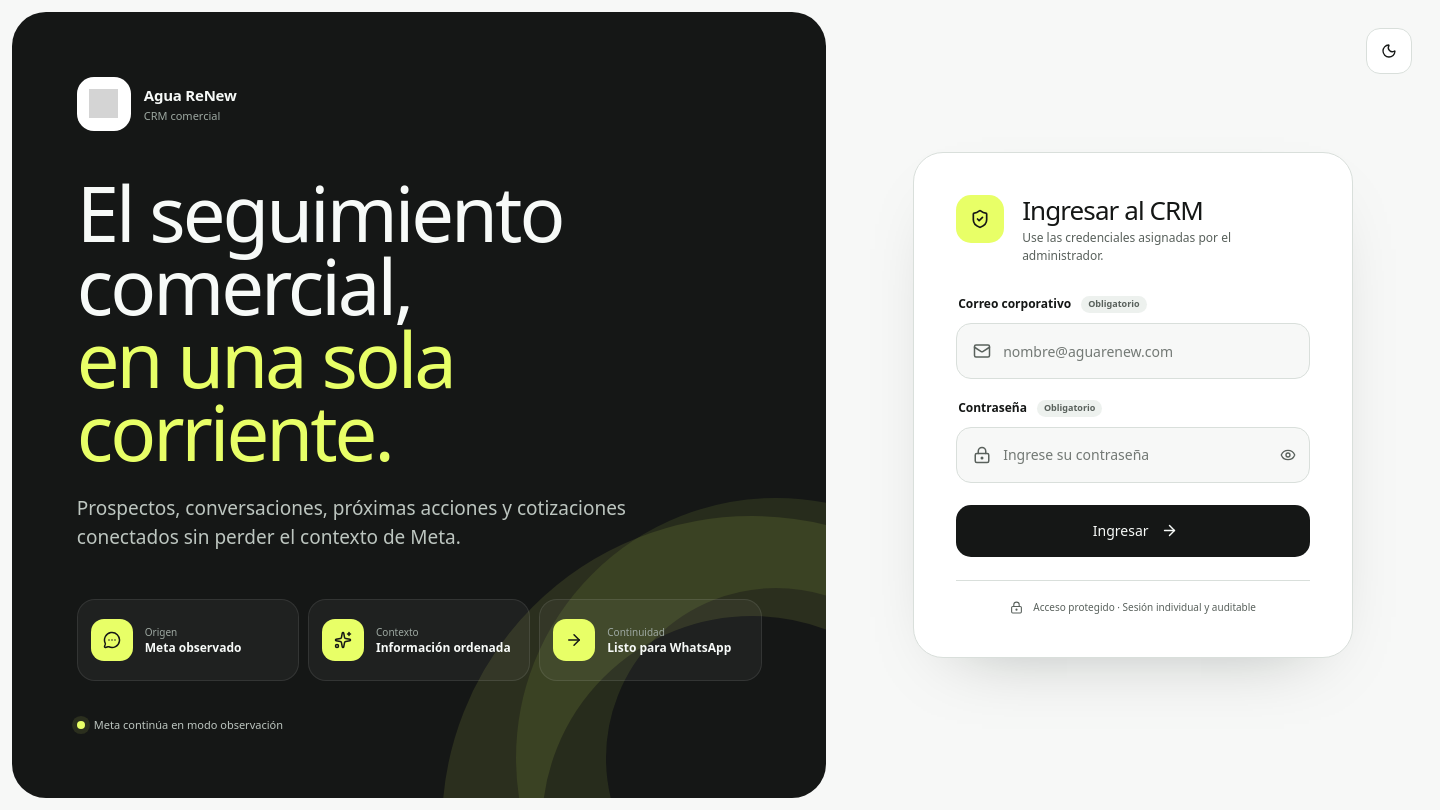
Login › presenta el error del servidor y conserva los datos para reintentar
Step 1. Type "asesor@aguarenew.local" into the field labelled "Correo corporativo Obligatorio" → {"x": 1155, "y": 351}, box [1001,324,1309,378]
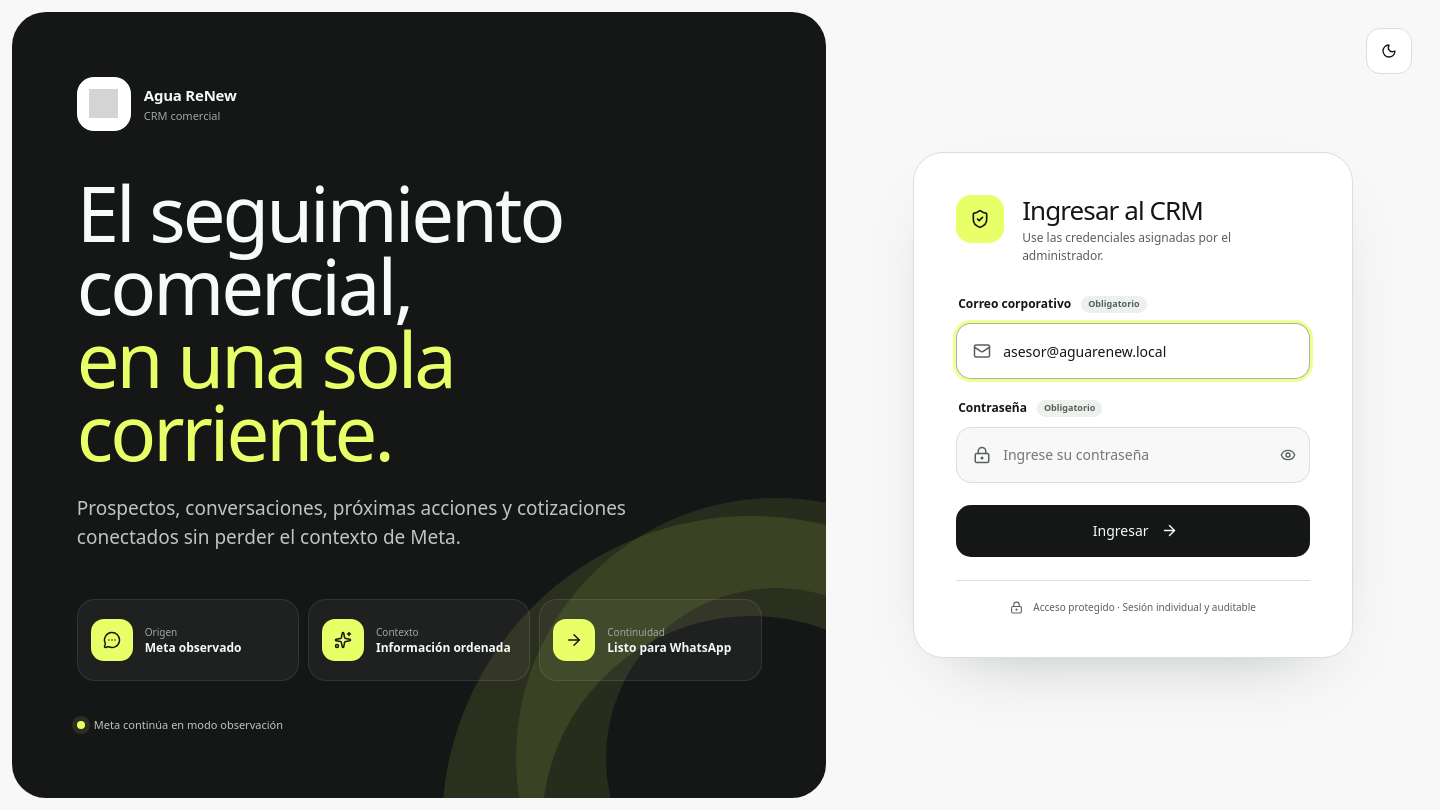
Step 2. Type "Una-clave-segura-2026" into the password field labelled "Contraseña Obligatorio" → {"x": 1132, "y": 455}, box [1001,428,1264,482]
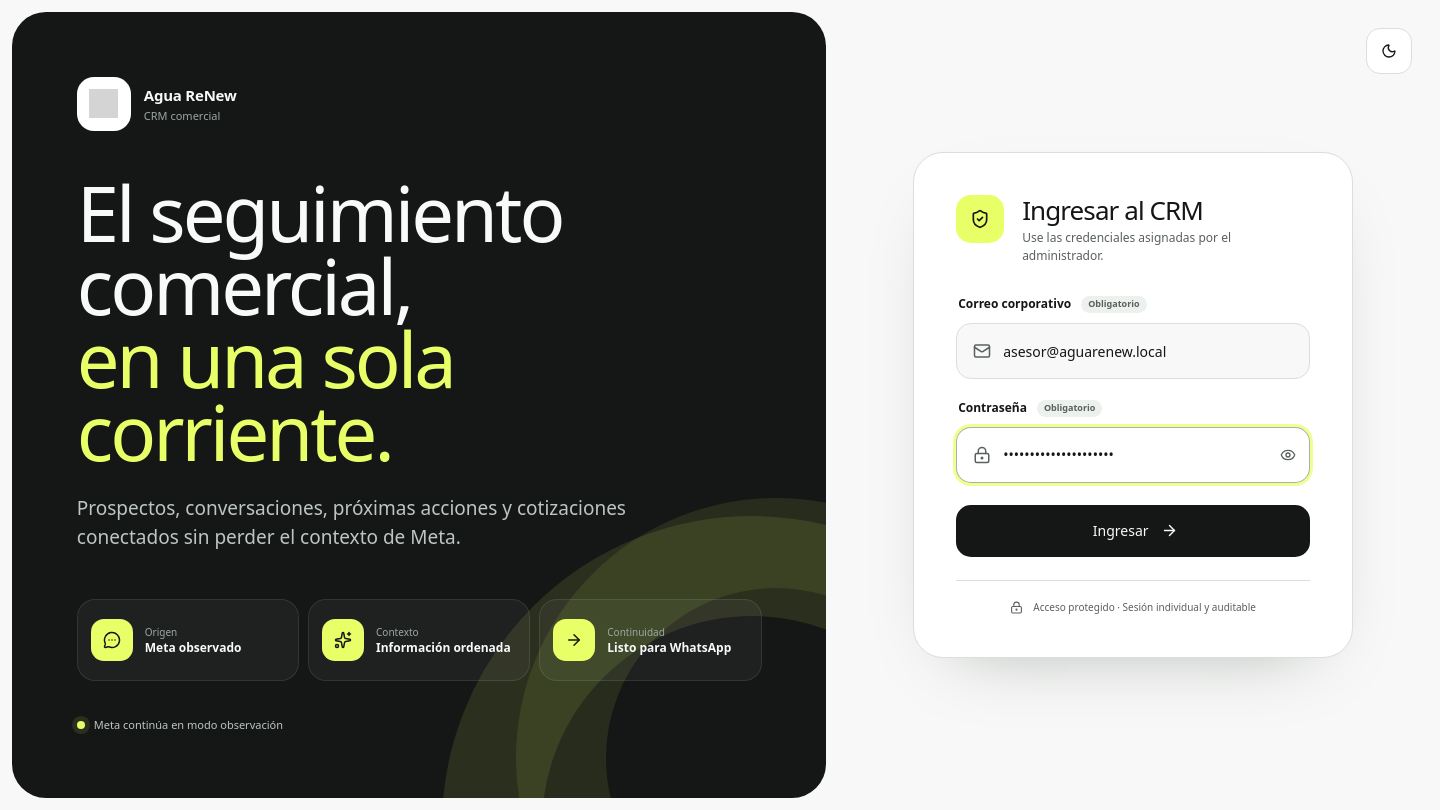
Step 3. Click the button "Ingresar" → {"x": 1133, "y": 531}, box [956,505,1310,557]
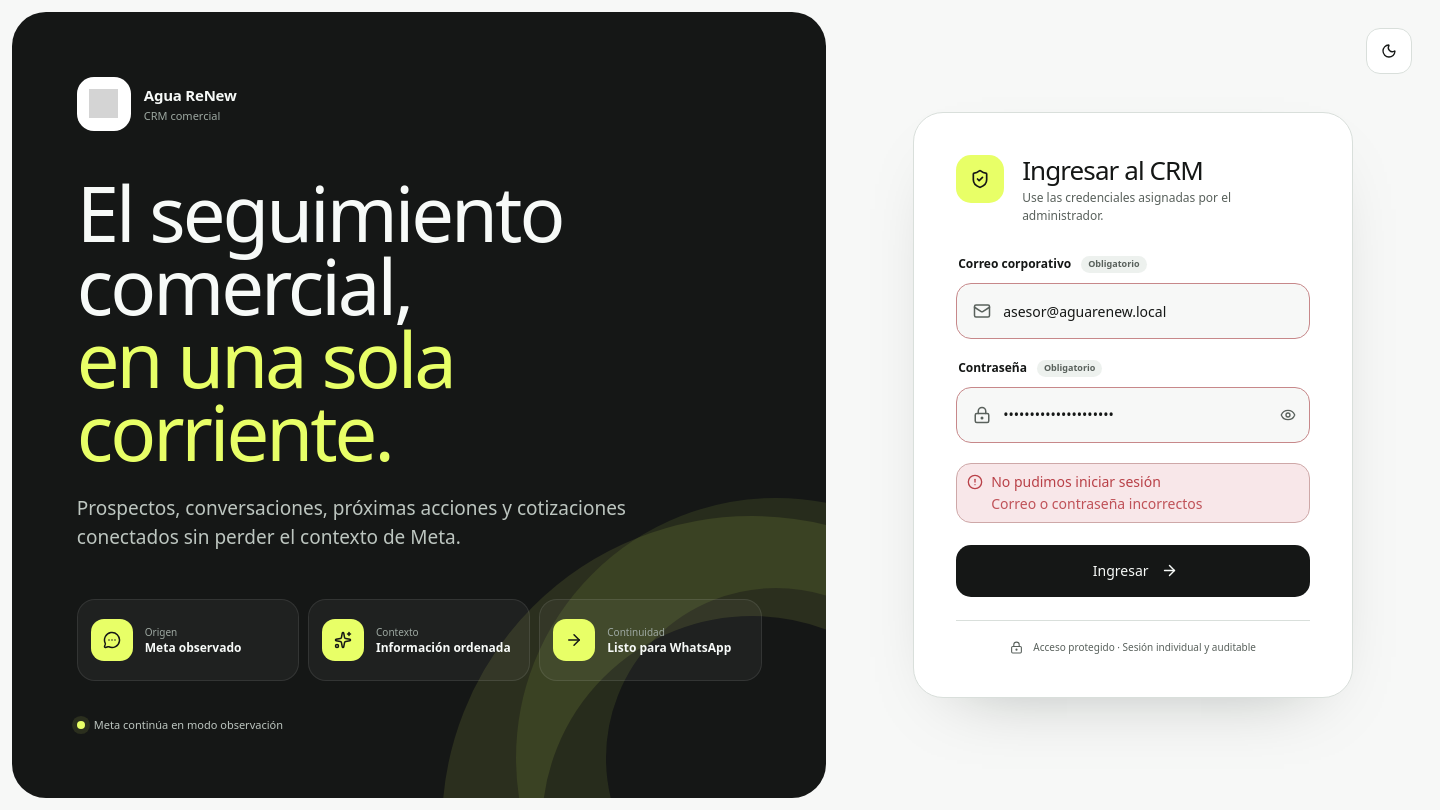
Check: the button "Ingresar" is enabled, box [956,545,1310,597]
Check: the message shows "Correo o contraseña incorrectos", box [991,494,1202,513]
